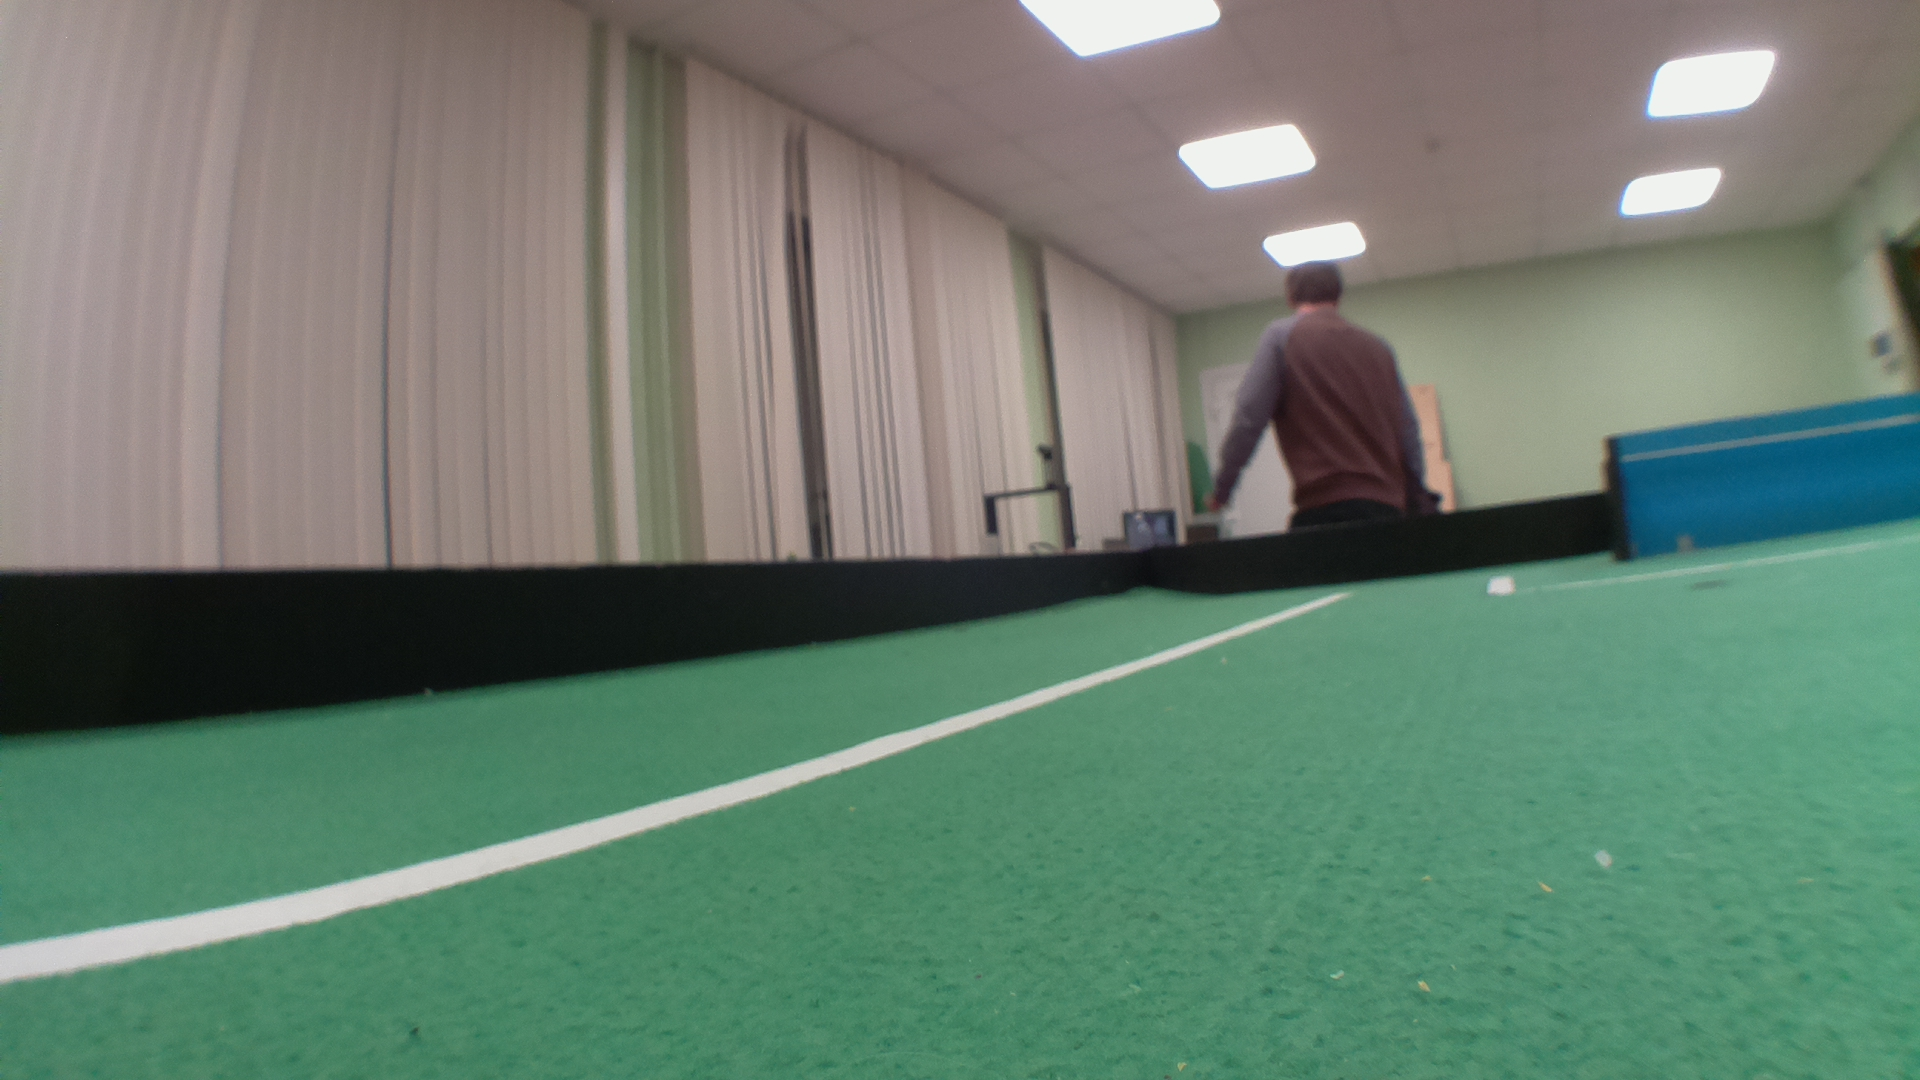BlueGoal: (1618, 392, 1919, 556)
